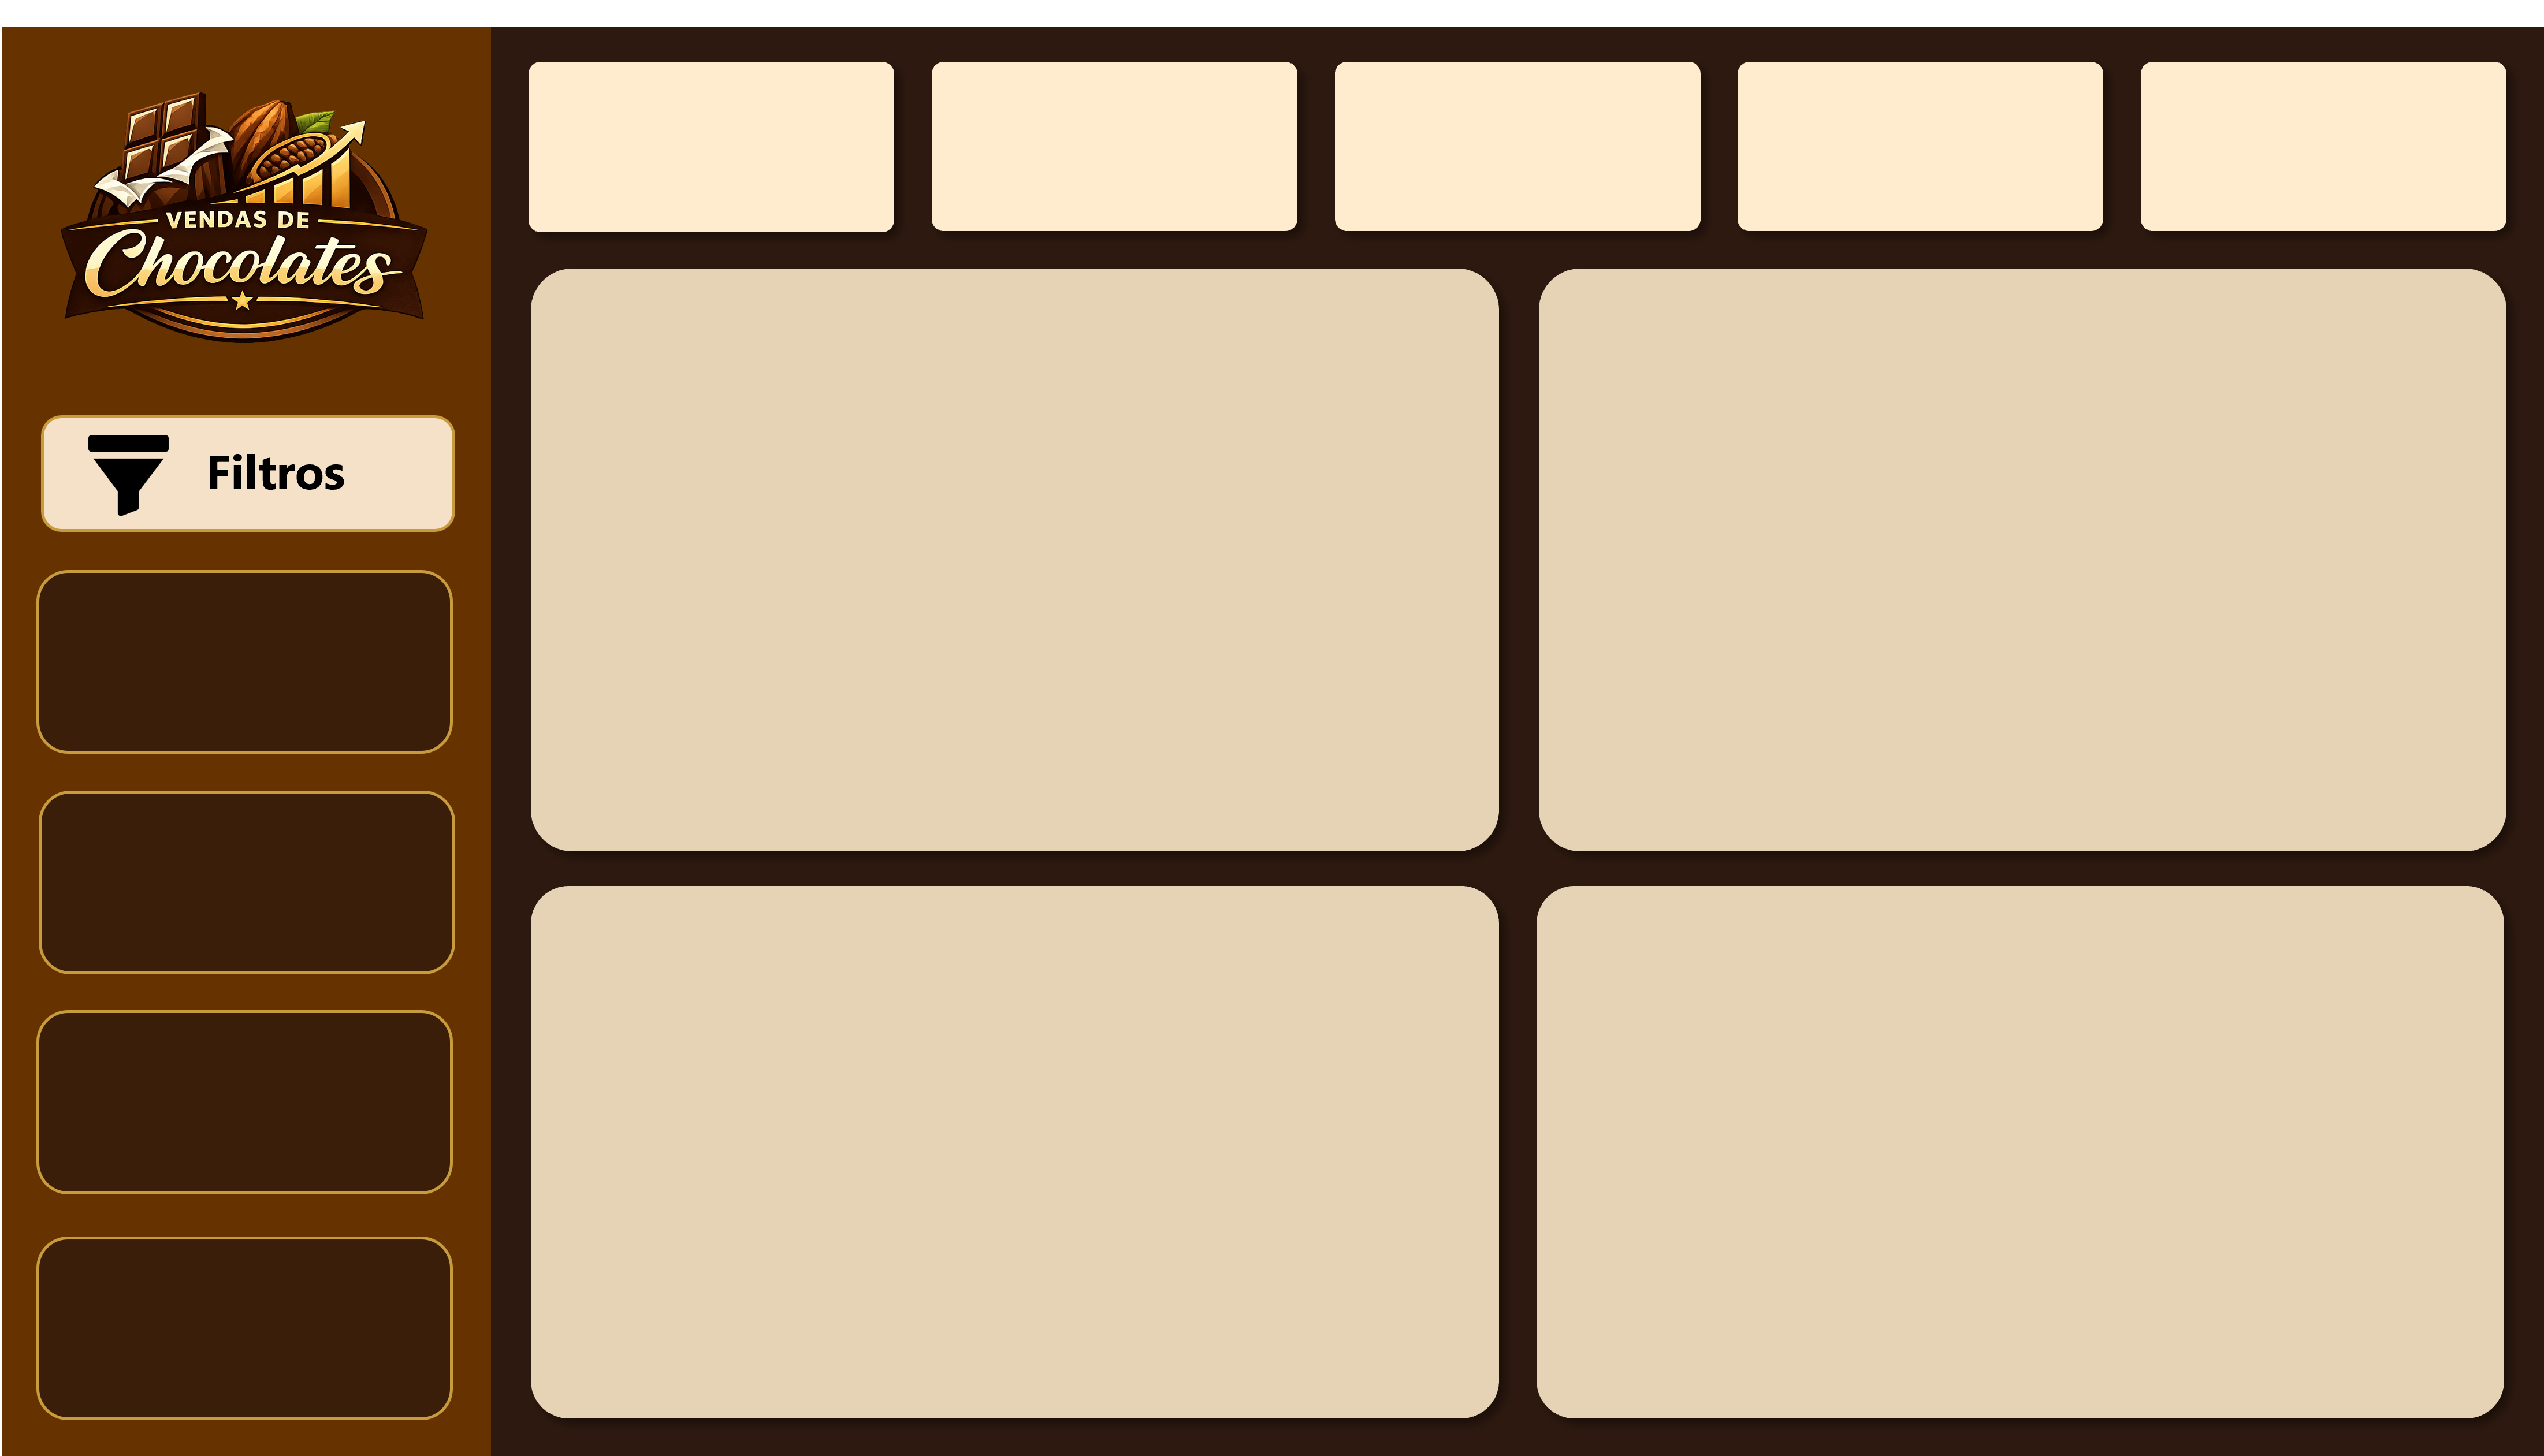

Layout of this report page (visuals, bound fields, positions):
{"tool":"powerbi","page":{"name":"Página 1","canvas":[1280,720],"ordinal":0},"visuals":[{"type":"cardVisual","title":"Faturamento Total","fields":{"Data":["Sum(chocolate_sales.Amount)"]},"box":[266.9,21.1,182.6,88.7],"z":0},{"type":"cardVisual","title":"Caixas Vendidas","fields":{"Data":["Sum(chocolate_sales.Boxes Shipped)"]},"box":[1078.2,21.1,183.5,88.7],"z":1000},{"type":"cardVisual","title":"Valor Médio Caixa","fields":{"Data":["Avg(chocolate_sales.Price Per Box)"]},"box":[877.2,21.1,182.6,88.7],"z":2000},{"type":"cardVisual","title":"Ticket Médio","fields":{"Data":["Avg(chocolate_sales.Amount)"]},"box":[671.7,21.1,183.5,88.7],"z":3000},{"type":"tableEx","title":"Top 10 Produtos com Maior Faturamento","fields":{"Values":["chocolate_sales.Product","Sum(chocolate_sales.Amount)","Sum(chocolate_sales.Boxes Shipped)","Avg(chocolate_sales.Price Per Box)"]},"box":[778.8,436.4,475.9,260.8],"z":4000},{"type":"azureMap","title":"Faturamento por País","fields":{"Category":["chocolate_sales.Country"],"Size":["Sum(chocolate_sales.Amount)"]},"box":[778.8,126.4,475.9,286.2],"z":5000},{"type":"slicer","fields":{"Values":["chocolate_sales.Country"]},"box":[25.5,286.2,193.2,73.8],"z":6000},{"type":"slicer","fields":{"Values":["chocolate_sales.Date.Variation.Hierarquia de datas.Ano","chocolate_sales.Date.Variation.Hierarquia de datas.Trimestre","chocolate_sales.Date.Variation.Hierarquia de datas.Mês","chocolate_sales.Date.Variation.Hierarquia de datas.Dia"]},"box":[25.5,399.5,192.3,72.9],"z":7000},{"type":"slicer","fields":{"Values":["chocolate_sales.Product"]},"box":[25.5,511.9,192.3,72.9],"z":8000},{"type":"slicer","fields":{"Values":["chocolate_sales.Sales Person"]},"box":[25.5,624.3,192.3,72.9],"z":9000},{"type":"barChart","title":"Top 5 Vendedores com Maior Faturamento","fields":{"Category":["chocolate_sales.Sales Person"],"Y":["Sum(chocolate_sales.Amount)"]},"box":[266.9,436.4,484.7,260.8],"z":10000},{"type":"lineStackedColumnComboChart","title":"Faturamento e Caixa Vendidas ao Longo do Tempo","fields":{"Y2":["Sum(chocolate_sales.Amount)"],"Y":["Sum(chocolate_sales.Boxes Shipped)"],"Category":["chocolate_sales.Date.Variation.Hierarquia de datas.Ano","chocolate_sales.Date.Variation.Hierarquia de datas.Mês"]},"box":[266.9,126.4,484.7,293.3],"z":11000},{"type":"cardVisual","title":"Número de Vendas","fields":{"Data":["CountNonNull(chocolate_sales.Country)"]},"box":[468.9,21.1,183.5,88.7],"z":12000}]}

Visuals, with their boxes in screenshot pixels (x1, y1, x2, y2), scaled from the page's 1280x720 canvas onto the 2544x1456 screenshot:
"Faturamento Total" cardVisual: <box>530,43,894,222</box>
"Caixas Vendidas" cardVisual: <box>2143,43,2508,222</box>
"Valor Médio Caixa" cardVisual: <box>1743,43,2106,222</box>
"Ticket Médio" cardVisual: <box>1335,43,1699,222</box>
"Top 10 Produtos com Maior Faturamento" tableEx: <box>1548,882,2494,1410</box>
"Faturamento por País" azureMap: <box>1548,256,2494,835</box>
slicer - chocolate_sales.Country: <box>51,579,434,728</box>
slicer - chocolate_sales.Date.Variation.Hierarquia de datas.Ano x chocolate_sales.Date.Variation.Hierarquia de datas.Trimestre: <box>51,808,433,955</box>
slicer - chocolate_sales.Product: <box>51,1035,433,1183</box>
slicer - chocolate_sales.Sales Person: <box>51,1263,433,1410</box>
"Top 5 Vendedores com Maior Faturamento" barChart: <box>530,882,1494,1410</box>
"Faturamento e Caixa Vendidas ao Longo do Tempo" lineStackedColumnComboChart: <box>530,256,1494,849</box>
"Número de Vendas" cardVisual: <box>932,43,1297,222</box>
